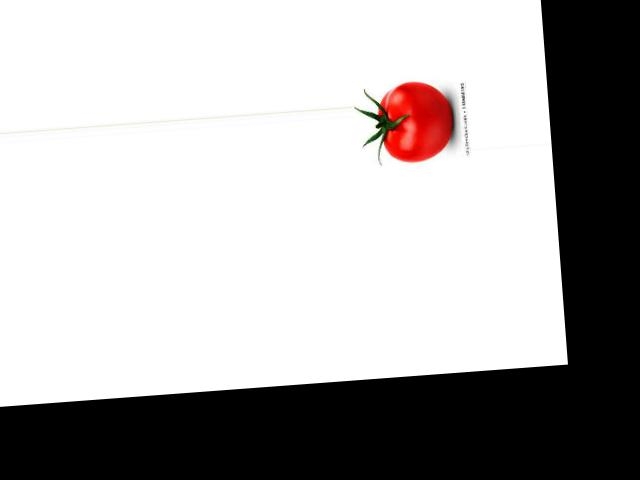tomato: (376, 78, 454, 163)
